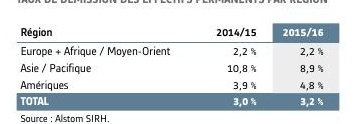table: (0, 0, 358, 124)
